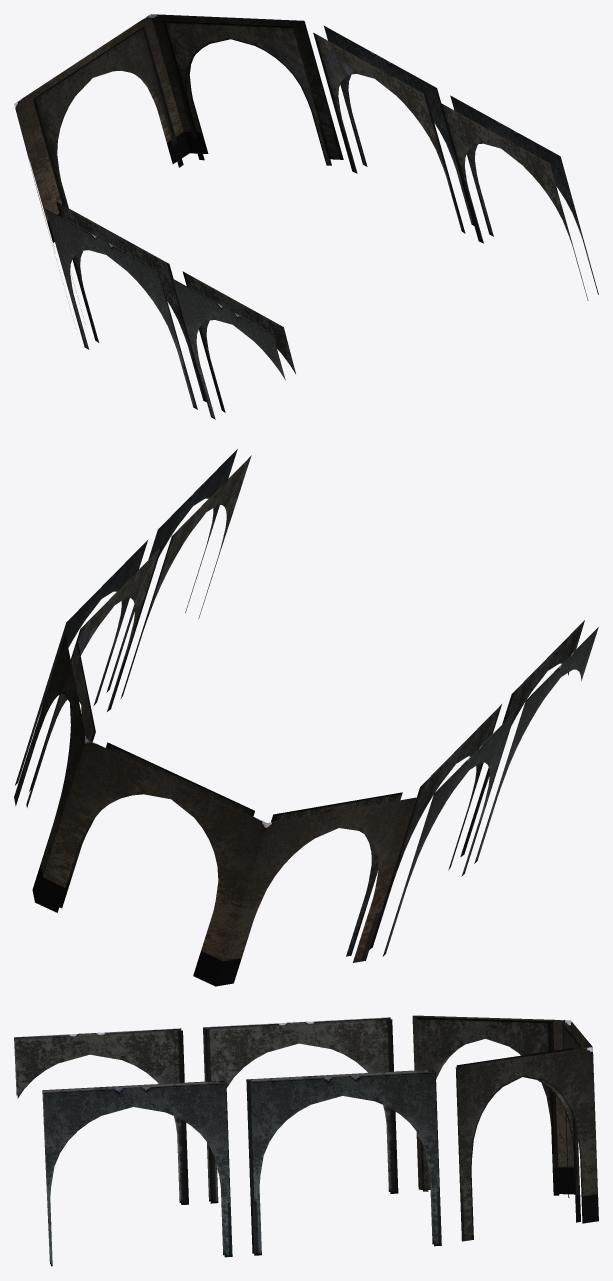
File: Arches.obj
3 views of the same model, one above another, from view 1: azimuth 30°, elevation 25°; view 2: azimuth 150°, elevation 25°; view 3: azimuth 270°, elevation 25° (orthographic). The views are drawn at different scales.
Parts seen in each view (by area): view 1: Circle.006_0; view 2: Circle.006_0; view 3: Circle.006_0.
Part boxes in pixels (left/top/right/bottom): Circle.006_0: left=14, top=14, right=598, bottom=419; Circle.006_0: left=14, top=449, right=598, bottom=986; Circle.006_0: left=14, top=1015, right=598, bottom=1266.
Size of the model in its own units: 14.83 by 9.01 by 19.25.
